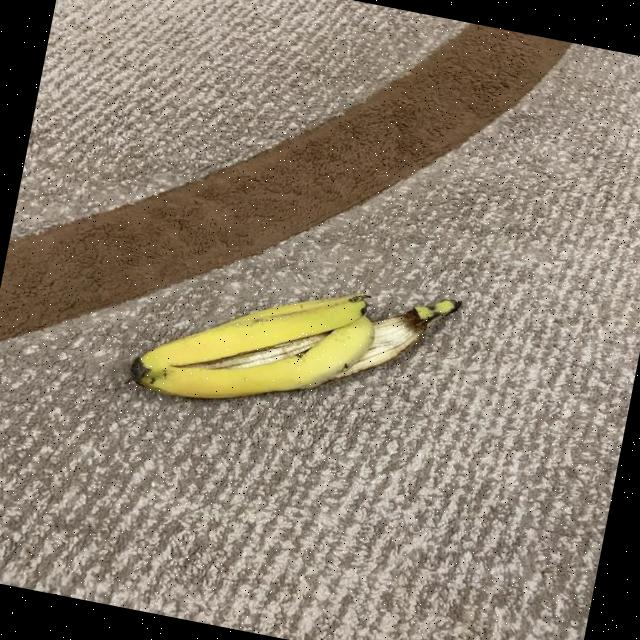banana-peel: (125, 239, 462, 447)
